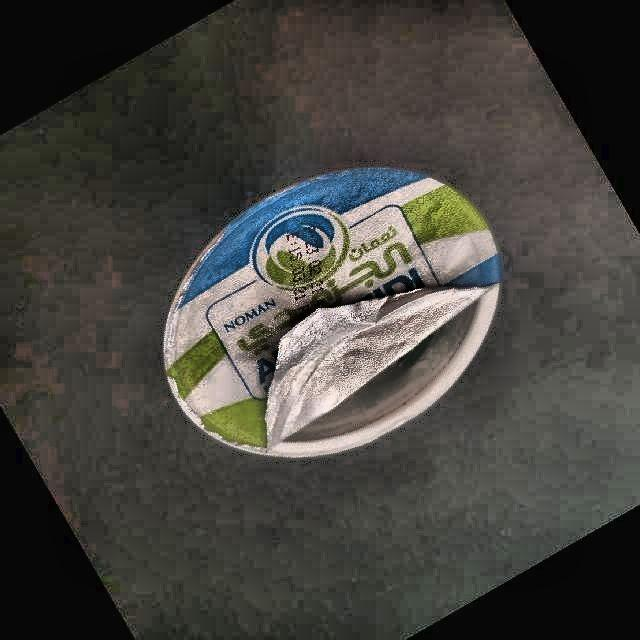plastic: (164, 168, 500, 457)
